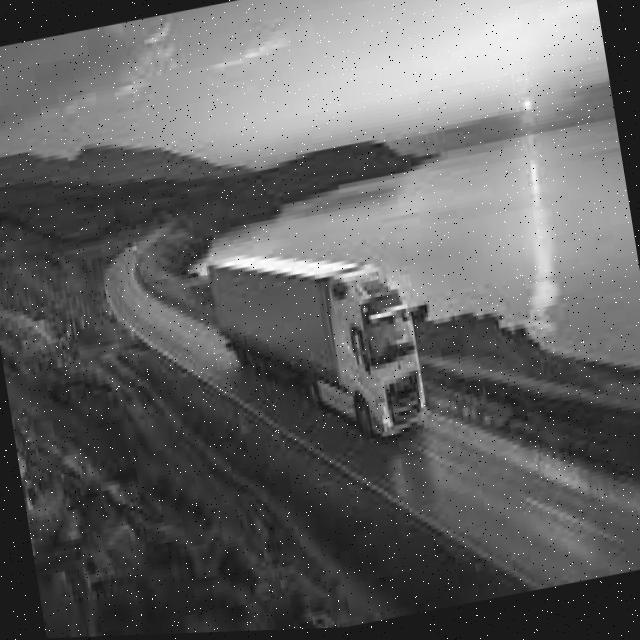truck: (206, 221, 430, 466)
